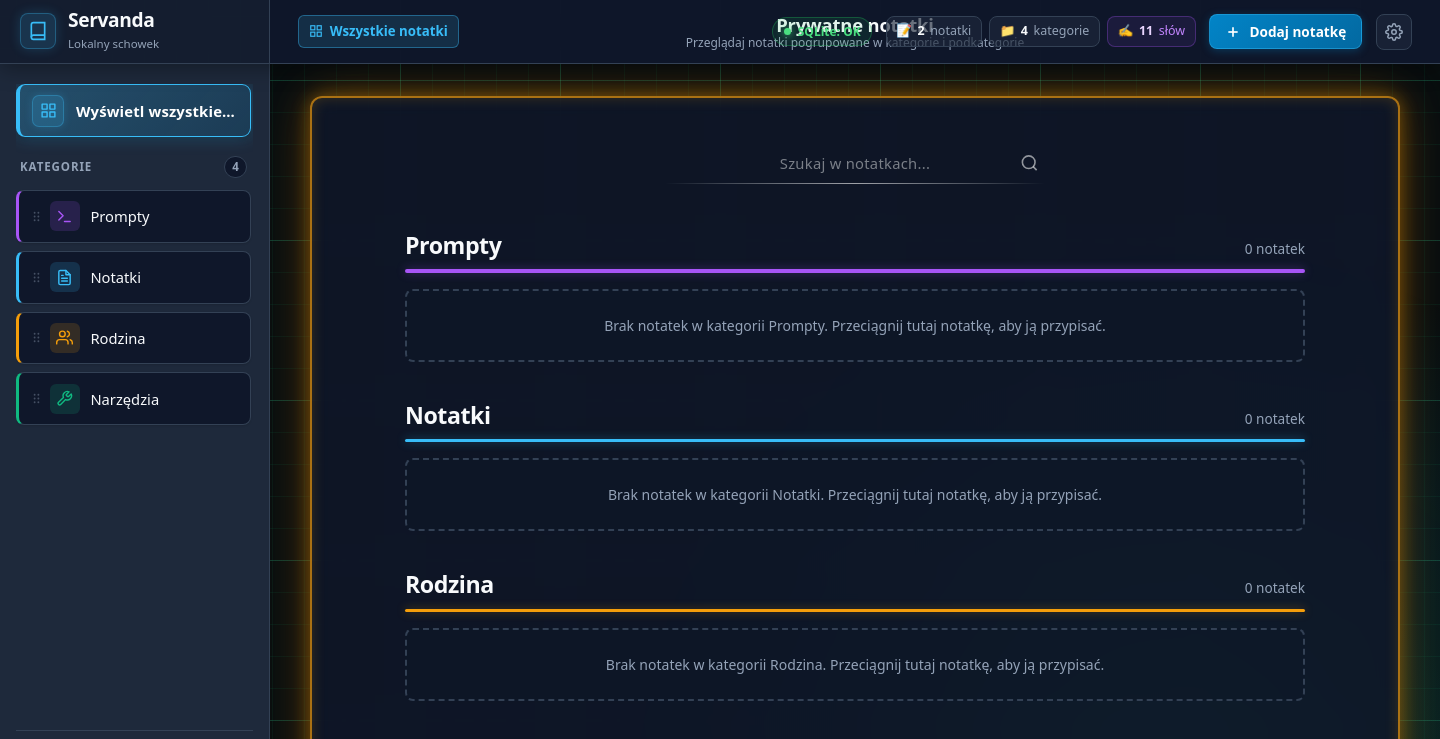
Scenario: App Component › filters notes in real time using the main panel search input
Type "Servanda" into the field with test id "main-search-input" at x=855, y=163, box [665,142,1045,184]
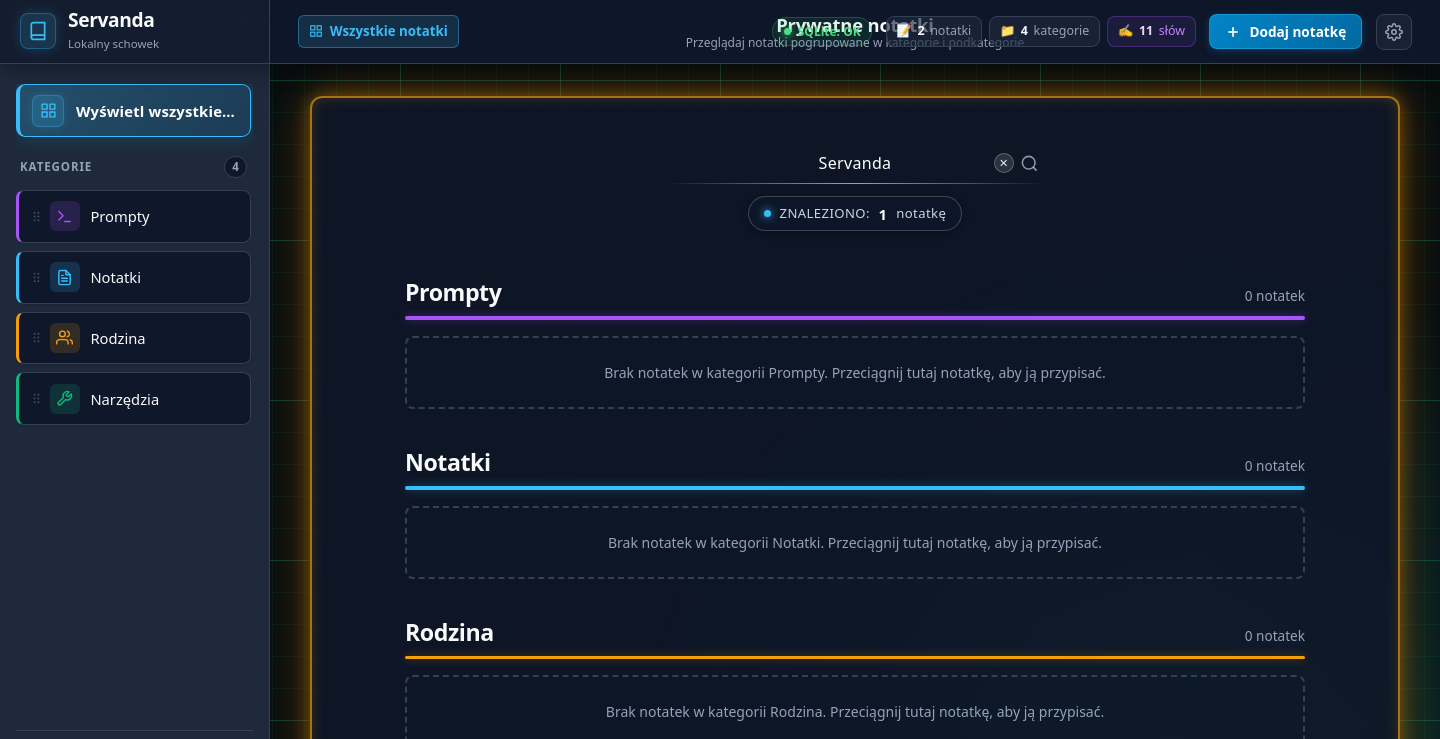
Expected: the text "Zakupy spożywcze" is not shown
Clear search
Clear the field with test id "main-search-input" at x=855, y=163, box [665,142,1045,184]
(page scrolled)
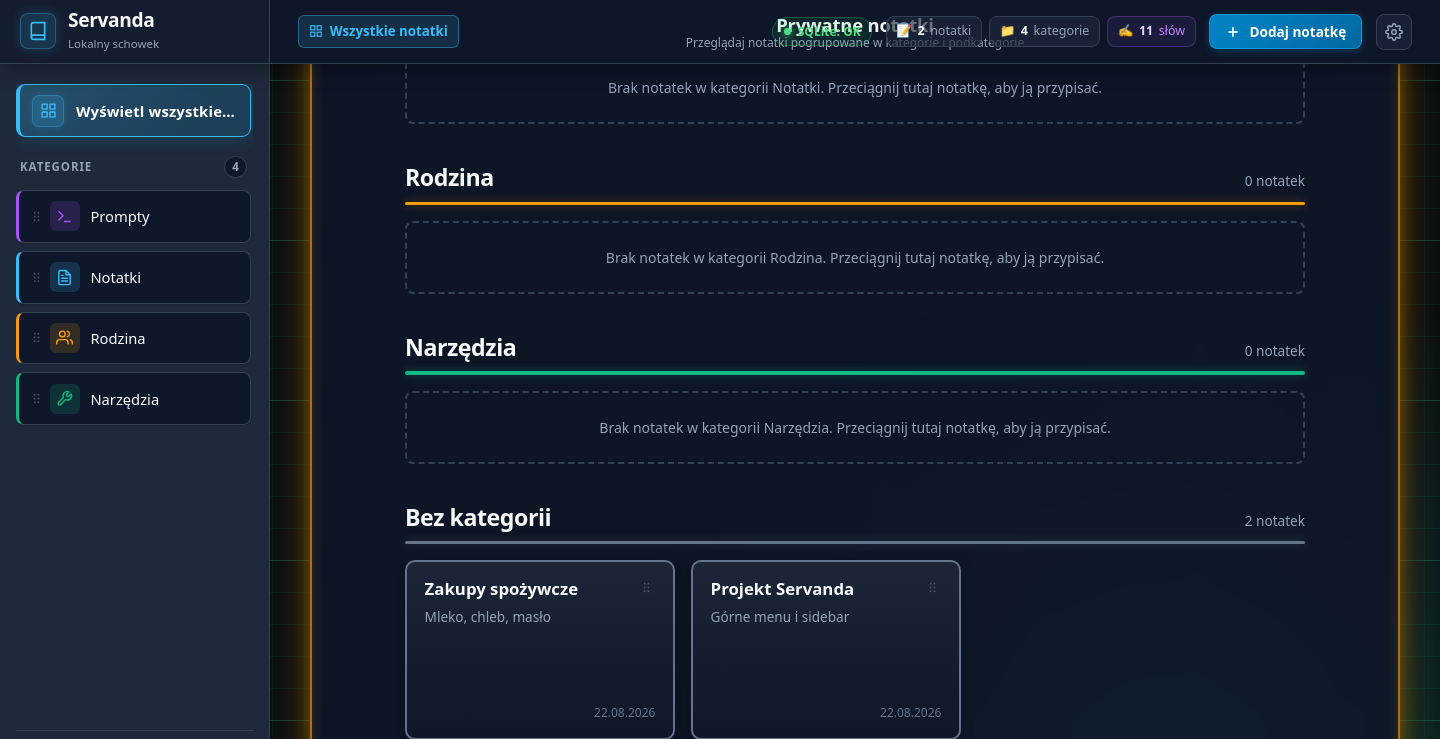
Expected: the heading "Zakupy spożywcze" is shown, [425,578,578,600]
Expected: the heading "Projekt Servanda" is shown, [711,578,854,600]
